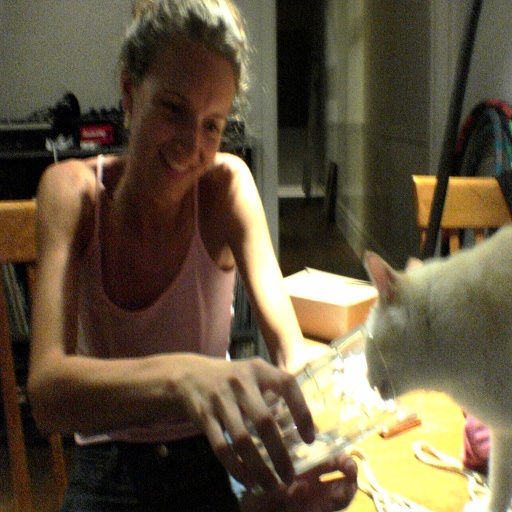hand: (83, 336, 347, 484)
